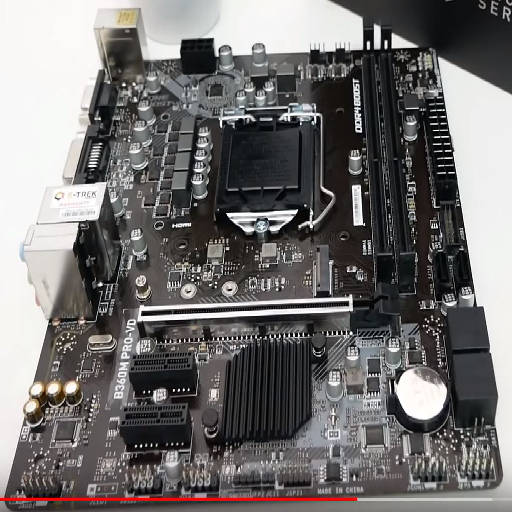CPU: (208, 104, 325, 246)
GPU: (129, 282, 405, 325)
MOTHERBOARD: (5, 6, 502, 490)
RAM: (354, 16, 424, 293)
SSD: (310, 251, 335, 296)
